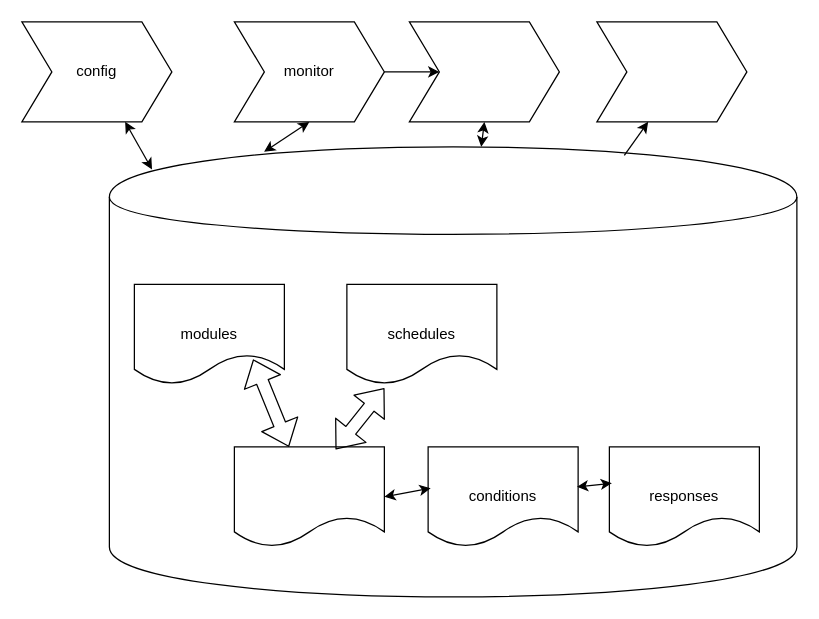
Some shapes in this 819 by 619 pixel diagram are drawn without their labels. The shapes that lost their labels are listed below. From the top down, each one's centre as x and y in pixels, then its label:
At pixel 483 71: "reporting".
At pixel 671 71: "display".
At pixel 308 496: "devices".
